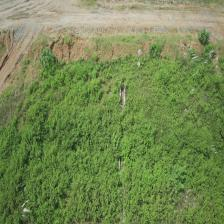vegetation: (2, 67, 114, 220), (128, 72, 224, 224)
